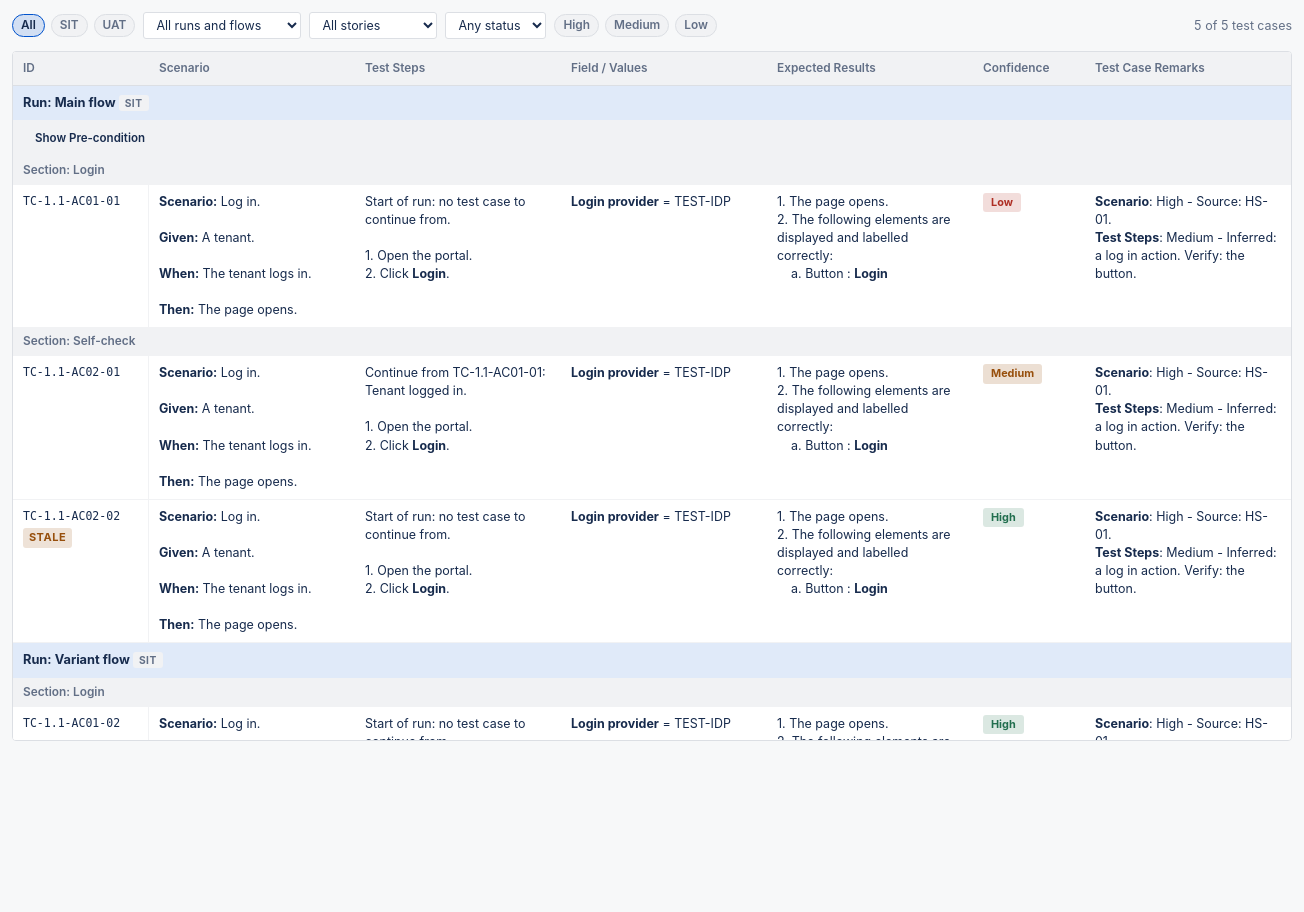
Test: TestCaseGrid › shows the shared pre-condition block per group, collapsed until opened
Expected: the text "Shared setup." is not shown
Click the button "Show Pre-condition" at (90, 138), box [23,125,157,152]
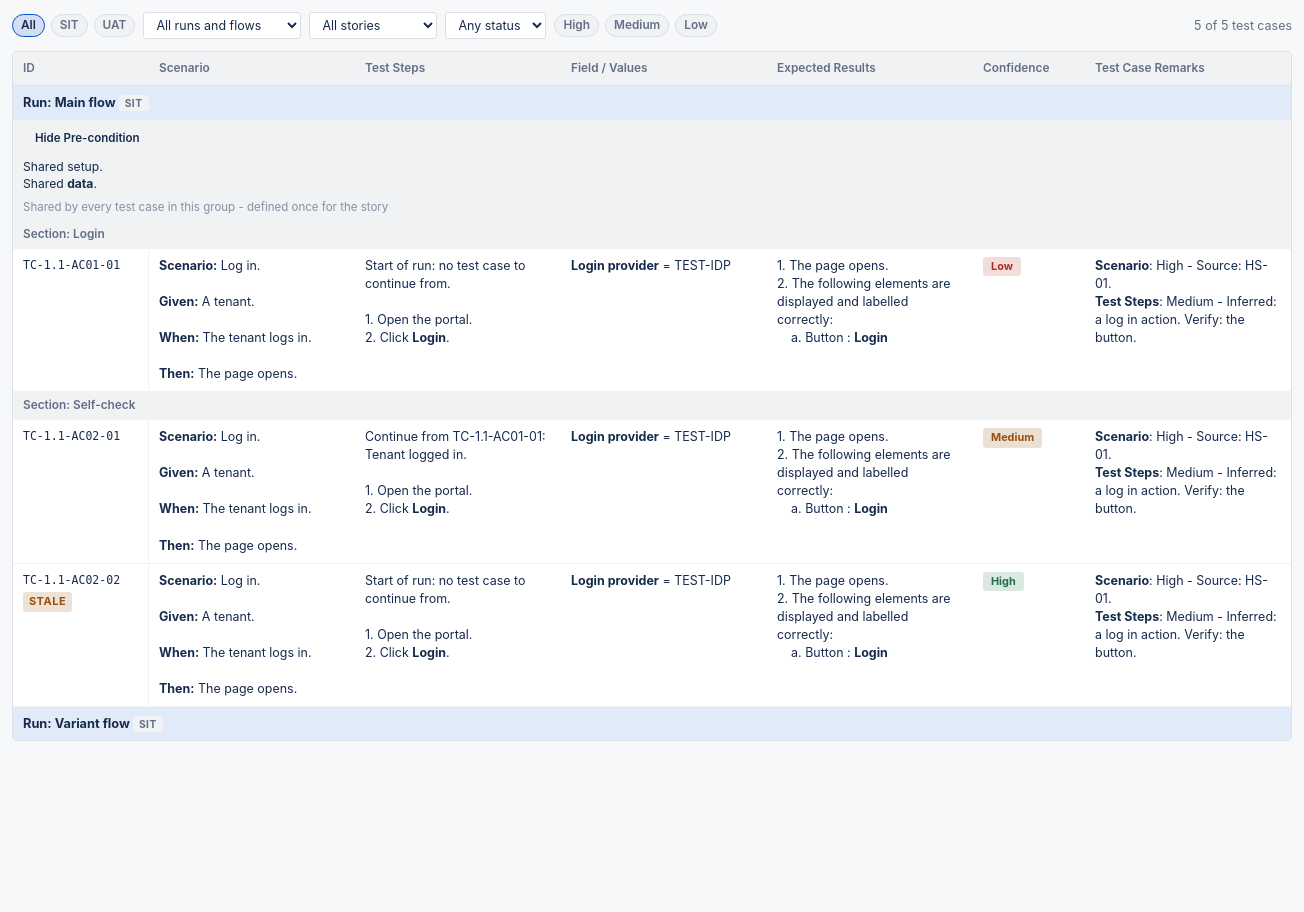
Expected: the text "Shared setup." is shown, [23,159,103,174]
Expected: the text "data" is shown, [67,176,93,191]
Expected: the text "Shared by every test case in this group - defined once for the story" is shown, [23,200,388,214]
Click the button "Hide Pre-condition" at (87, 138), box [23,125,152,152]
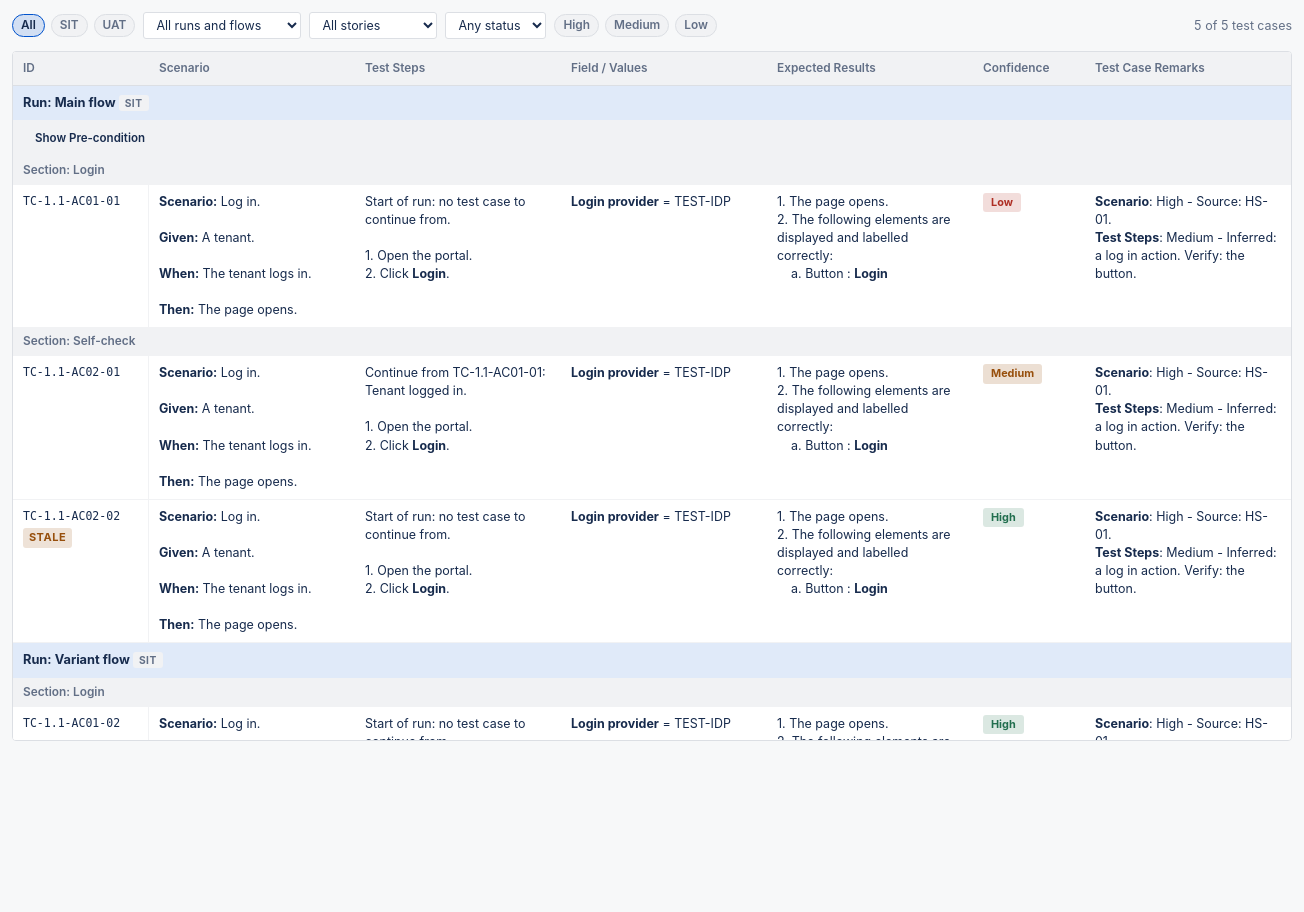
Expected: the text "Shared setup." is gone
